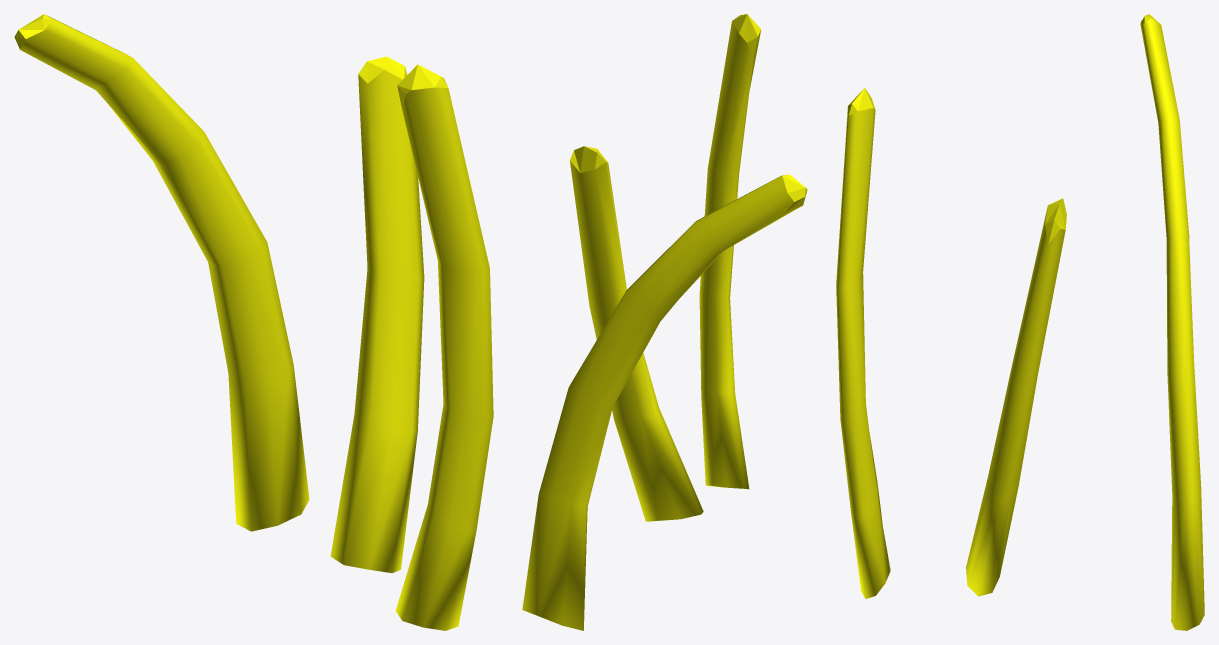
File: bone_whale_deco02.glb
The picture shows the model from 3 angles, left to right: view 1: azimuth 30°, elevation 25°; view 2: azimuth 150°, elevation 25°; view 3: azimuth 270°, elevation 25°; orthographic projection. The views are drawn at different scales.
Visible parts, largest first — view 1: bone_whale_deco02; view 2: bone_whale_deco02; view 3: bone_whale_deco02.
Part boxes in pixels (x1,y1,x2,y2): bone_whale_deco02: (14, 14, 493, 630); bone_whale_deco02: (522, 14, 807, 630); bone_whale_deco02: (836, 14, 1204, 630).
Size of the model in its own units: 6.42 by 10.96 by 7.03.
Materials: 1 (1 with a texture image).
